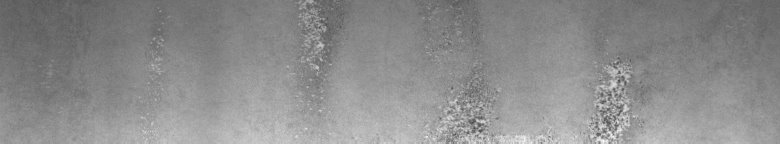hc: (580, 53, 644, 136)
